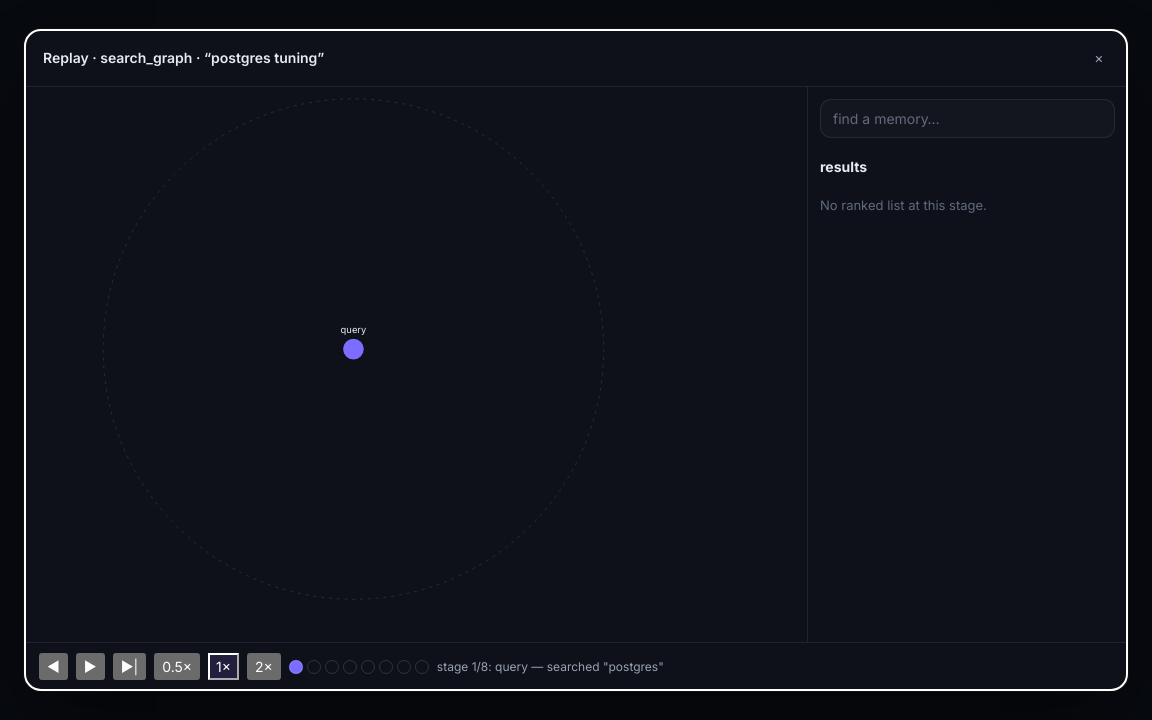
Scenario: ReplayOverlay › says when no candidate matches -- every search missed it
The image size is (1152, 720).
Check: the text "stage 1/8: query — searched \"postgres\"" is shown, box [437,658,664,676]
Type "zebra" into the search field labelled "find a memory" at [968, 118], box [820,99,1115,138]
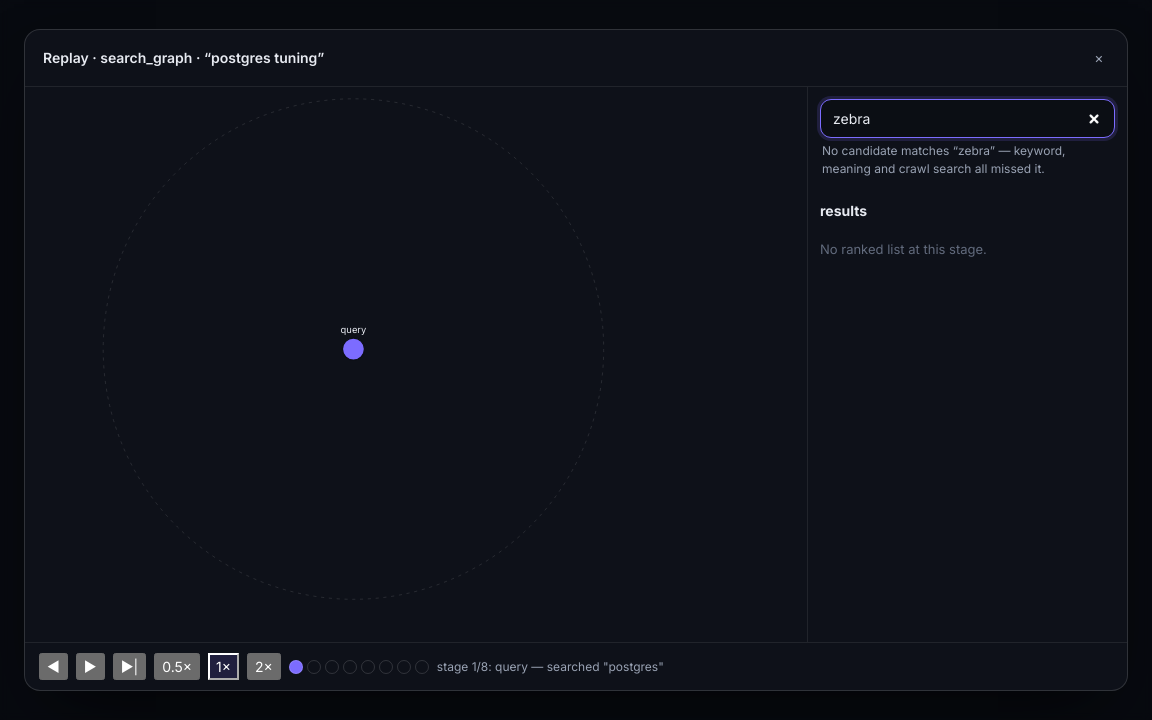
Check: the text "No candidate matches “zebra” — keyword, meaning and crawl search all missed it." is shown, box [822,143,1066,176]
